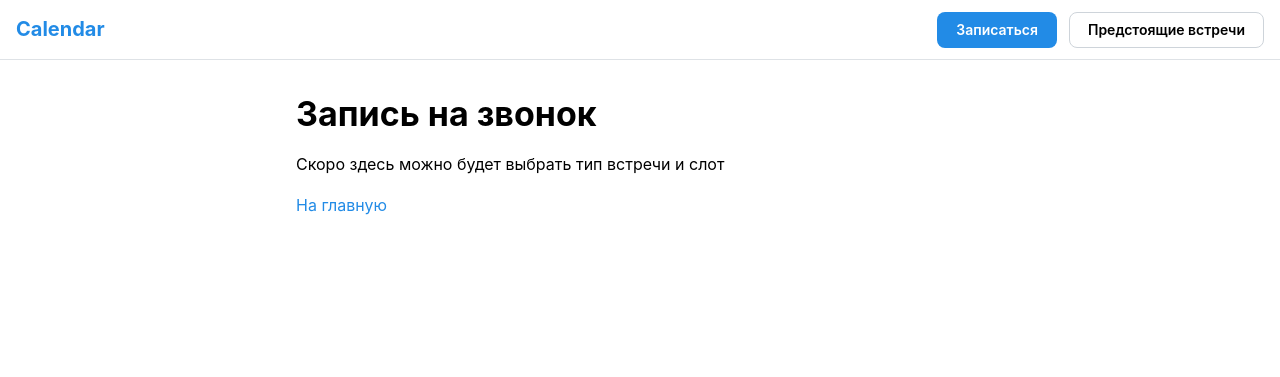
it: главная страница › со страницы записи можно вернуться на главную
The image size is (1280, 377).
Click the link "На главную": (342, 205) [296,193,387,218]
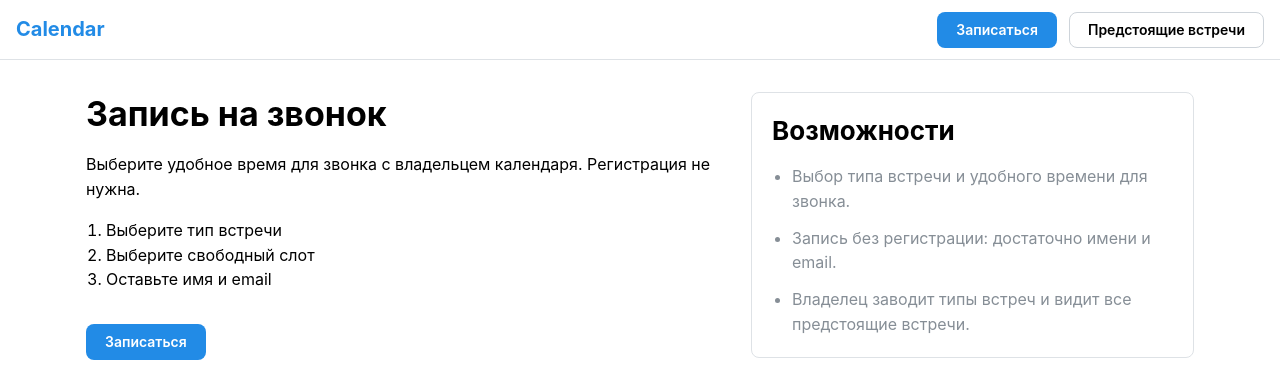
Expected: the text "Выберите тип встречи" is shown, [106,218,282,243]
